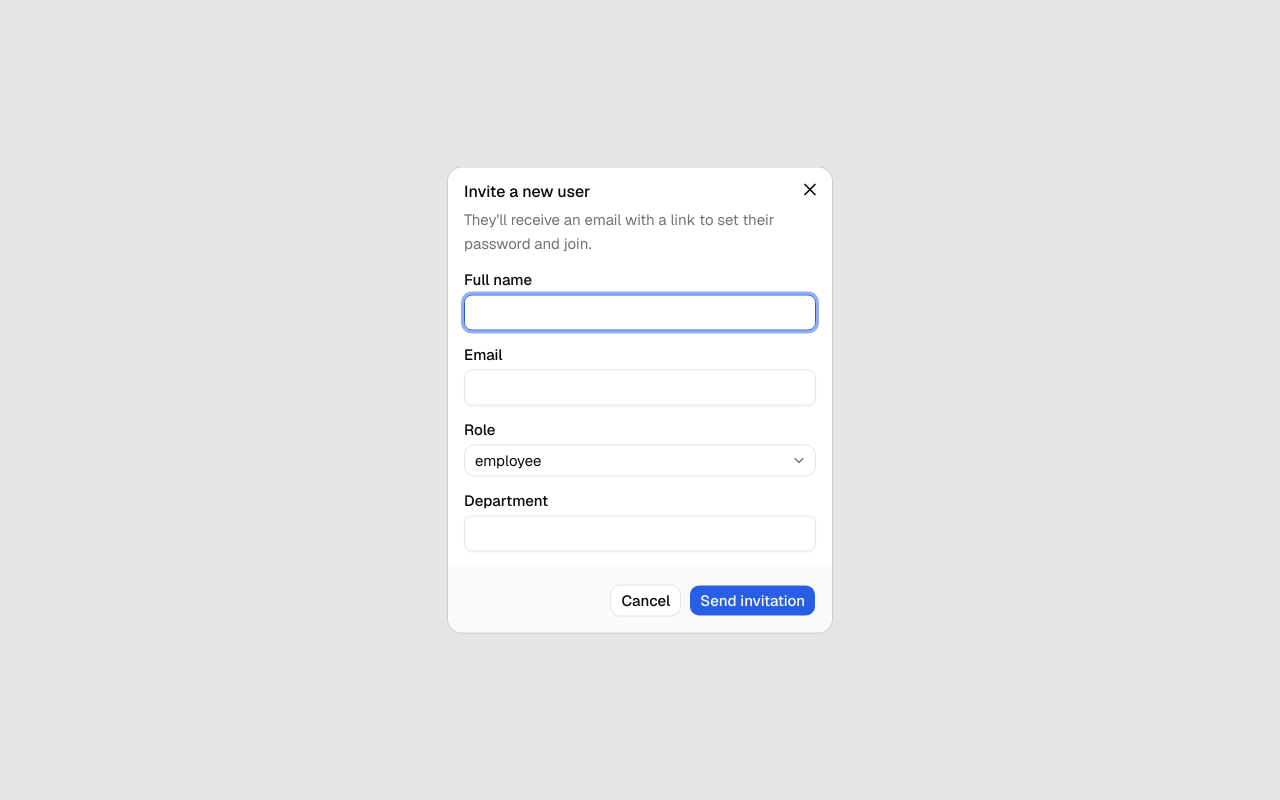
Test: CreateInvitationDialog › rejects a malformed email address
This screenshot has width=1280, height=800.
Type "Ada Lovelace" into the field labelled "Full name" at (640, 312), box [464,294,816,330]
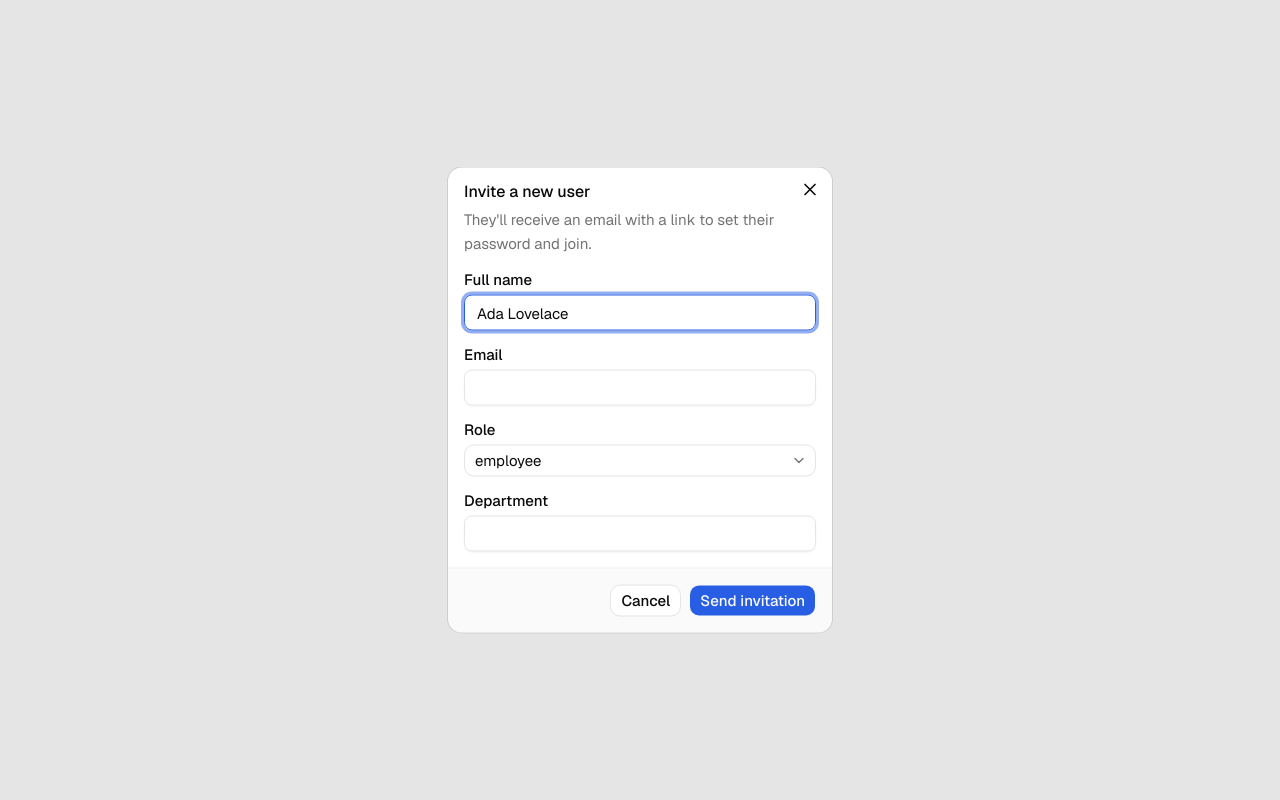
Type "not-an-email" into the field labelled "Email" at (640, 388), box [464,370,816,406]
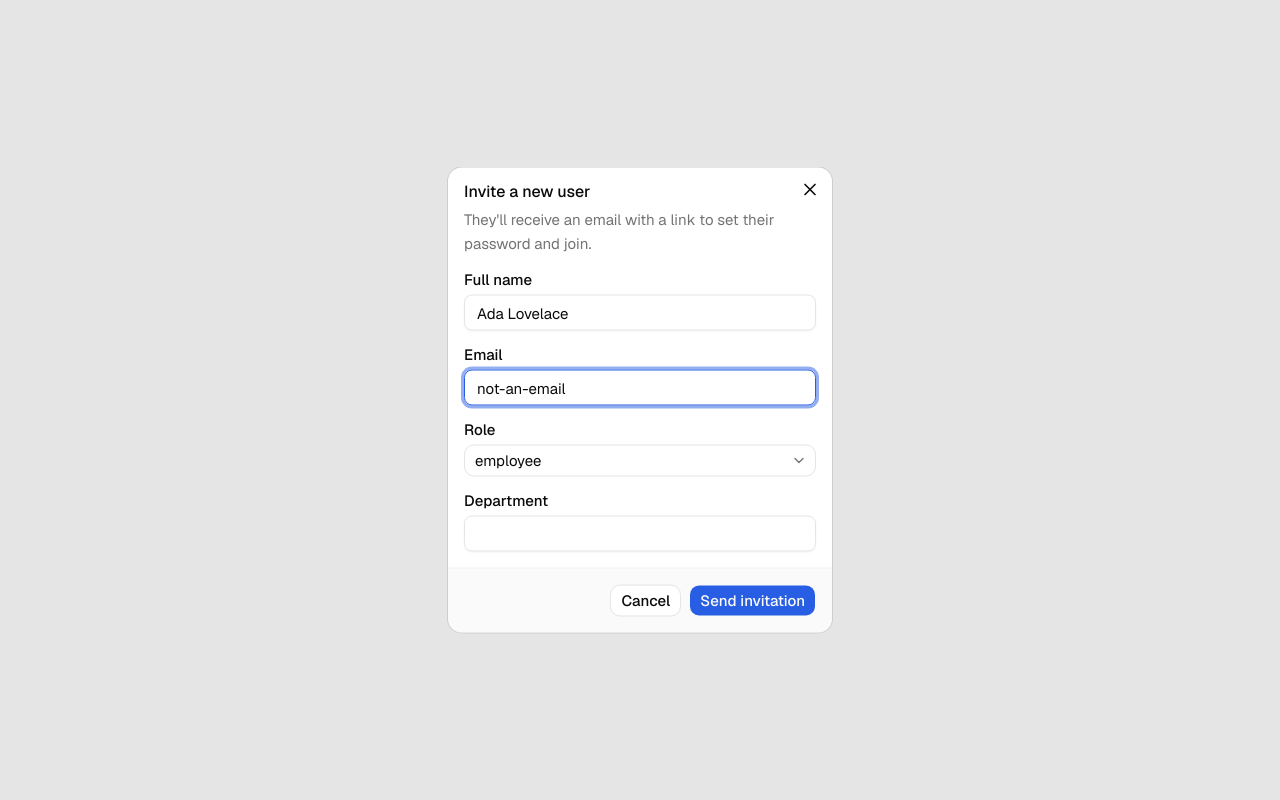
Click the button "Send invitation" at (753, 600), box [689,584,816,616]
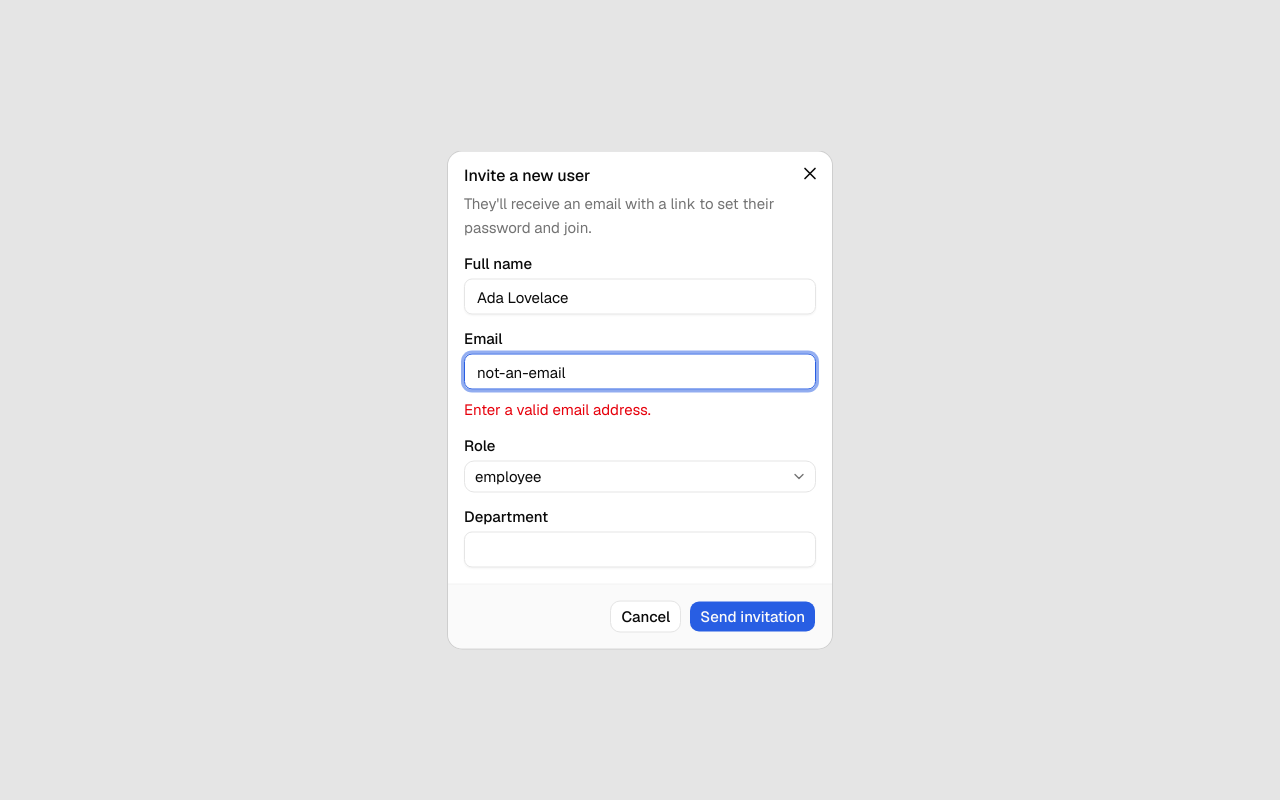
Expected: the text "Enter a valid email address." is shown, [464,400,651,418]
